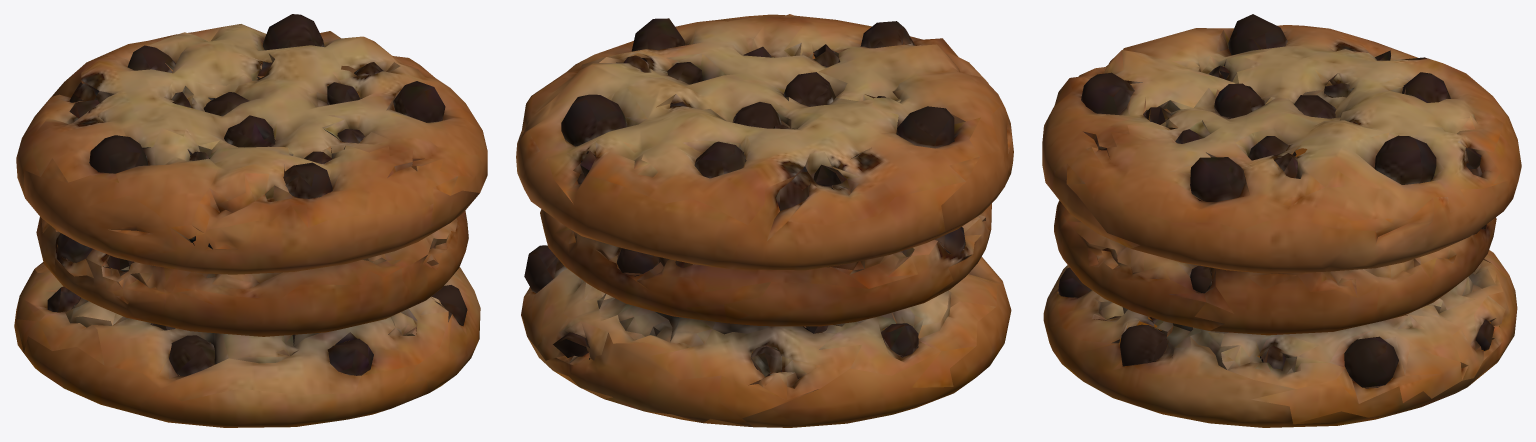
The model's file is galleta.glb.
The picture shows the model from 3 angles, left to right: view 1: azimuth 30°, elevation 25°; view 2: azimuth 150°, elevation 25°; view 3: azimuth 270°, elevation 25°; orthographic projection. The views are drawn at different scales.
Visible parts, largest first — view 1: objeto; view 2: objeto; view 3: objeto.
Part boxes in pixels (left/top/right/bottom): objeto: left=14, top=14, right=487, bottom=427; objeto: left=516, top=14, right=1013, bottom=427; objeto: left=1042, top=14, right=1521, bottom=427.
Size of the model in its own units: 0.9188 by 0.5311 by 0.9193.
Materials: 1 (1 with a texture image).
